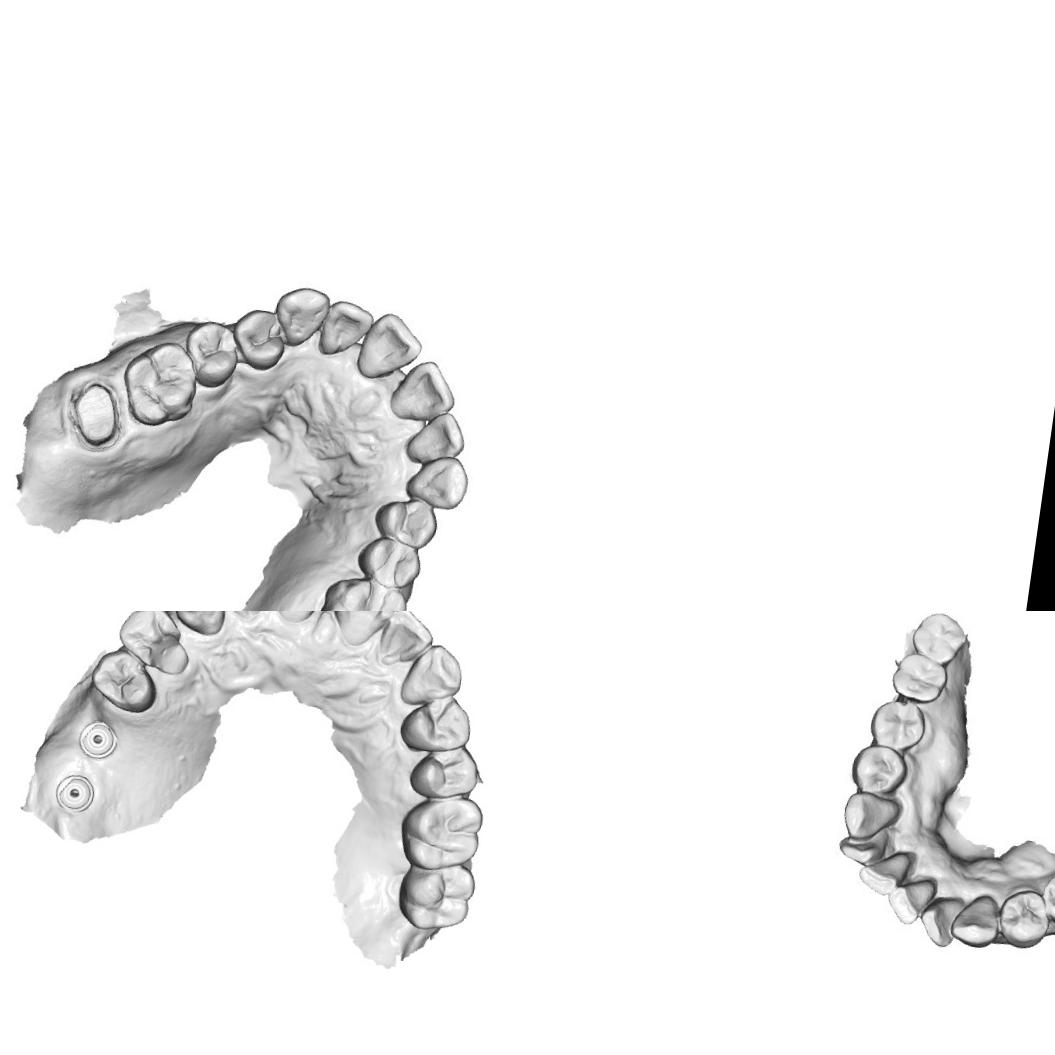canine: (396, 637, 469, 712), (398, 450, 476, 511), (271, 282, 332, 352), (954, 888, 1002, 948), (843, 788, 898, 838), (169, 611, 232, 640)
crown: (61, 373, 125, 452)
implant: (52, 770, 100, 816), (76, 716, 120, 760)
incisor: (349, 310, 421, 386), (391, 356, 463, 428), (374, 611, 439, 670), (321, 296, 375, 359), (328, 611, 403, 652), (410, 416, 466, 464), (922, 896, 966, 953), (836, 825, 894, 868), (891, 876, 936, 931), (859, 847, 914, 891), (265, 611, 338, 627)
molar: (392, 787, 488, 877), (118, 340, 200, 432), (392, 857, 482, 938), (888, 646, 955, 708), (312, 572, 407, 611), (907, 611, 970, 668)
premolar: (112, 611, 197, 679), (396, 689, 476, 760), (86, 644, 162, 717), (406, 738, 484, 805), (180, 316, 244, 395), (370, 492, 444, 554), (230, 304, 288, 378), (846, 735, 911, 800), (868, 693, 934, 756), (354, 530, 424, 589), (996, 886, 1054, 952), (1041, 871, 1055, 933)
